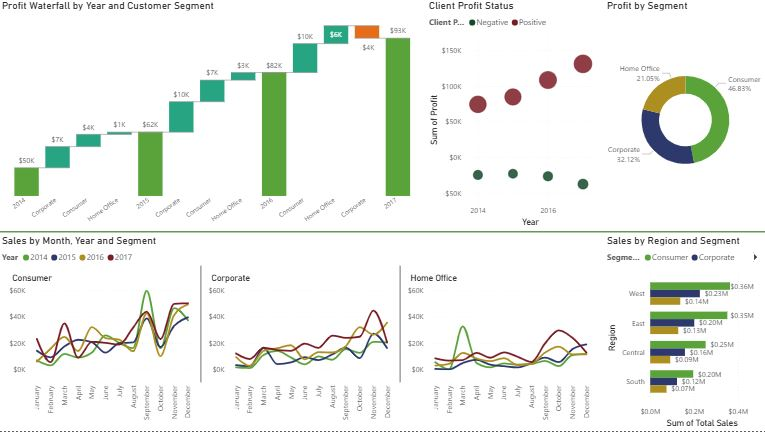

The page's visual inventory and layout, read from the dashboard file:
{"tool":"powerbi","page":{"name":"Customer & Segment","canvas":[1280,720],"ordinal":3},"visuals":[{"type":"shape","box":[0,240,1280,296],"z":0},{"type":"waterfallChart","title":"Profit Waterfall by Year and Customer Segment","fields":{"Y":["Sum(Data_Superstore.Profit)"],"Category":["Data_Superstore.Order Date.Variation.Date Hierarchy.Year"],"Breakdown":["Data_Superstore.Segment"]},"box":[0,0,711.4,384.3],"z":1000},{"type":"scatterChart","title":"Client Profit Status ","fields":{"Series":["Data_Superstore.Client Profit Status"],"Size":["Measures Table.count of customer"],"Y":["Data_Superstore.Profit"],"X":["Data_Superstore.Order Date.Variation.Date Hierarchy.Year"]},"box":[711.4,0,297.1,384.3],"z":2000},{"type":"donutChart","title":"Profit by Segment","fields":{"Category":["Data_Superstore.Segment"],"Y":["Sum(Data_Superstore.Profit)"]},"box":[1008.6,0,271.4,384.3],"z":3000},{"type":"lineChart","title":"Sales by Month, Year and Segment","fields":{"Series":["Data_Superstore.Order Date.Variation.Date Hierarchy.Year"],"Category":["Data_Superstore.Order Date.Variation.Date Hierarchy.Month"],"Rows":["Data_Superstore.Segment"],"Y":["Sum(Data_Superstore.Total Sales)"]},"box":[0,392,1008,328],"z":4000},{"type":"clusteredBarChart","title":"Sales by Region and Segment","fields":{"Series":["Data_Superstore.Segment"],"Category":["Data_Superstore.Region"],"Y":["Sum(Data_Superstore.Total Sales)"]},"box":[1008,392,272,328],"z":5000}]}

Visuals, with their boxes in screenshot pixels (x1, y1, x2, y2), scaled from the page's 1280x720 canvas onto the 765x432 screenshot:
shape: [left=0, top=144, right=764, bottom=322]
"Profit Waterfall by Year and Customer Segment" waterfallChart: [left=0, top=0, right=425, bottom=231]
"Client Profit Status " scatterChart: [left=425, top=0, right=603, bottom=231]
"Profit by Segment" donutChart: [left=603, top=0, right=764, bottom=231]
"Sales by Month, Year and Segment" lineChart: [left=0, top=235, right=602, bottom=431]
"Sales by Region and Segment" clusteredBarChart: [left=602, top=235, right=764, bottom=431]
